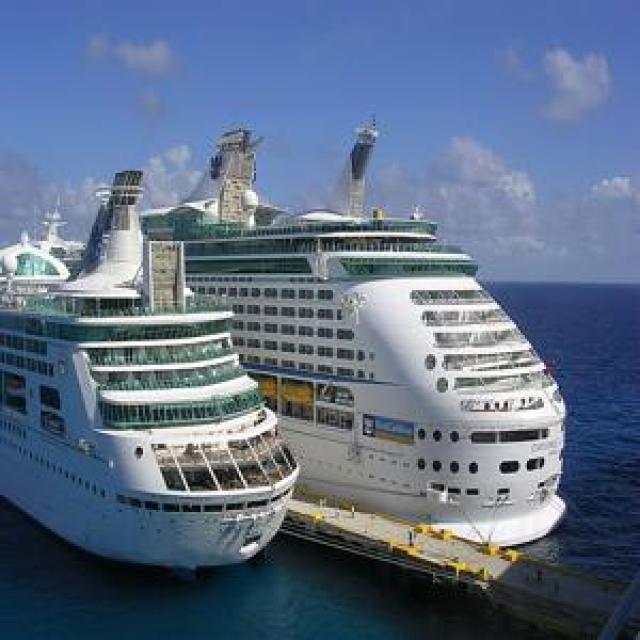passenger ship: (134, 129, 575, 547), (2, 221, 298, 570)
